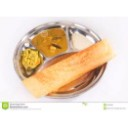dosa: (26, 38, 119, 96)
